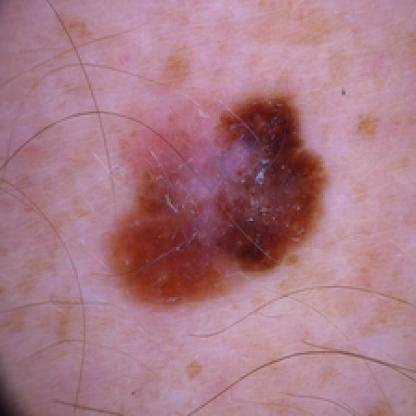Skin_Cancer-Malignant: (105, 93, 327, 310)
